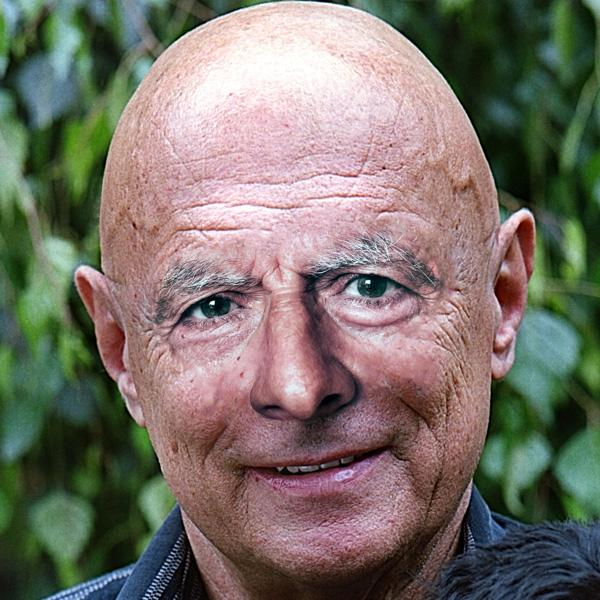Eyes: (160, 277, 262, 342), (321, 261, 421, 323)
